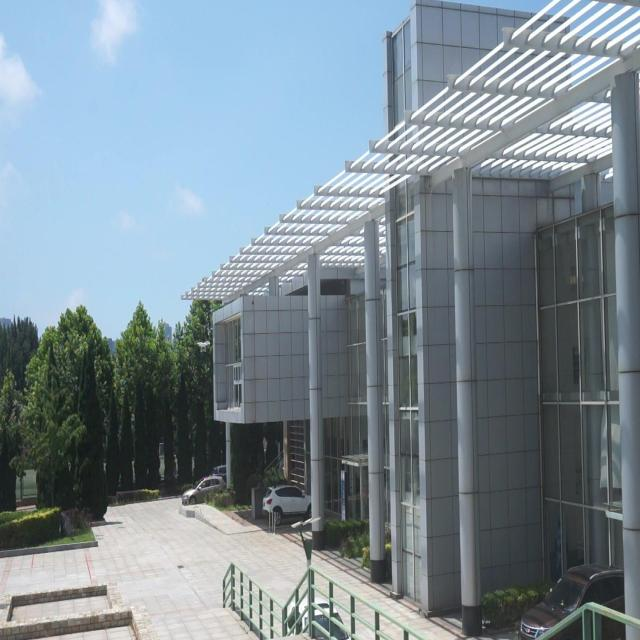drone: (195, 332, 211, 357)
